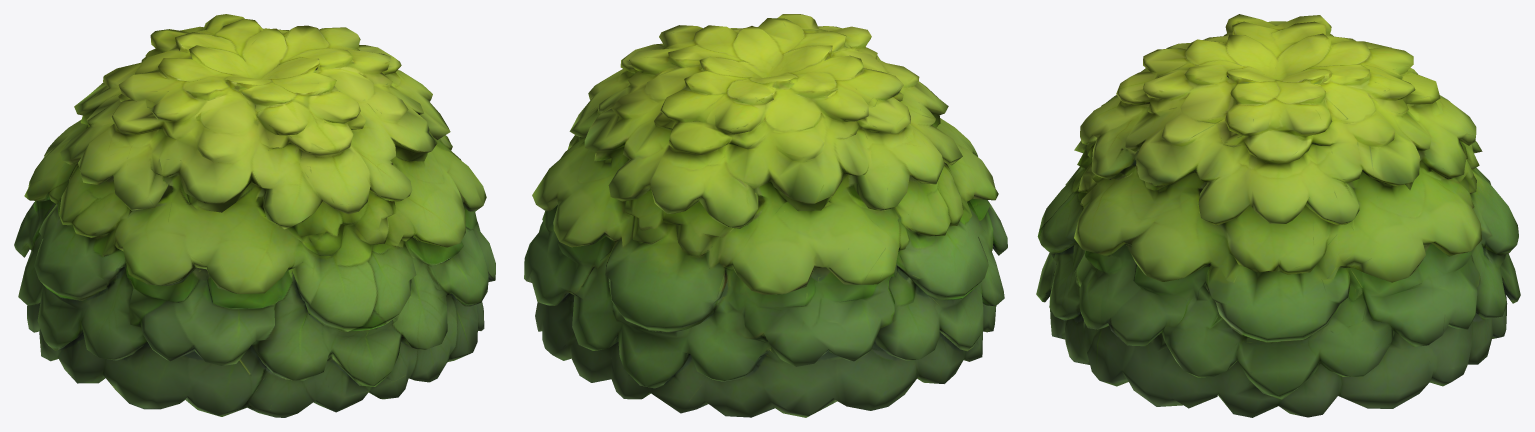
The model's file is Green_Haven_1006120808_texture.fbx.
3 renders of one model, left to right at view 1: azimuth 30°, elevation 25°; view 2: azimuth 150°, elevation 25°; view 3: azimuth 270°, elevation 25°, orthographic.
Visible parts, largest first — view 1: Mesh1.0; view 2: Mesh1.0; view 3: Mesh1.0.
Boxes of the visible parts, x1=… form: Mesh1.0: x1=14, y1=14, x2=495, y2=417; Mesh1.0: x1=524, y1=14, x2=1007, y2=417; Mesh1.0: x1=1036, y1=14, x2=1520, y2=417.
Bounding box in the file's own units: 184 × 120 × 185.
1 material, 1 textured.
